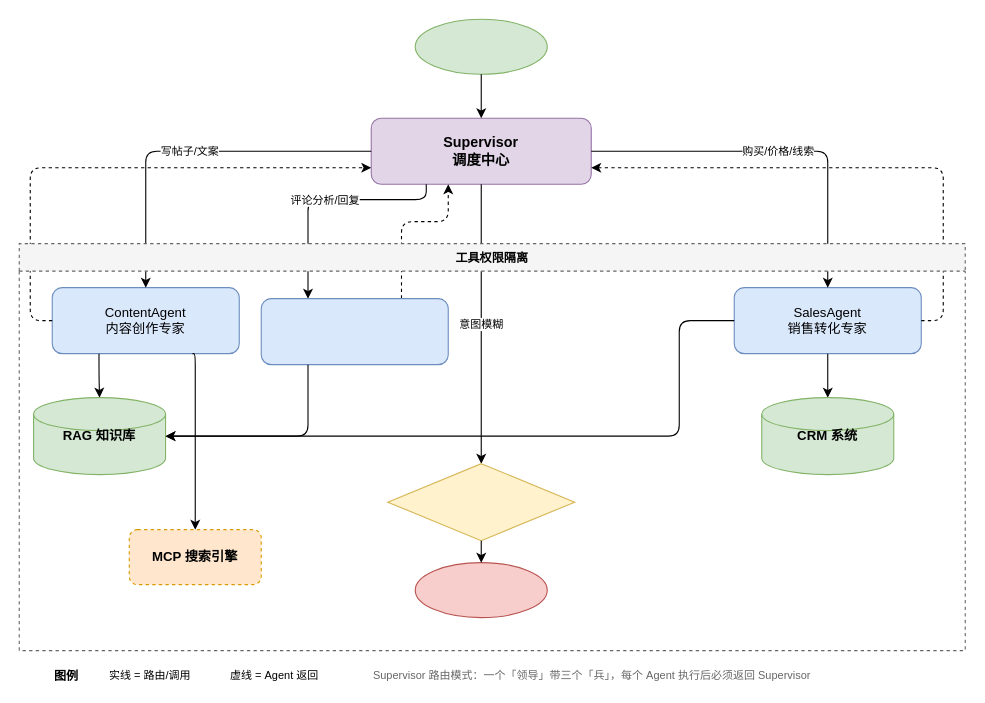
Some shapes in this 985 by 703 pixel diagram are drawn without their labels. The centre of each missing label's shape, as x and y in pixels:
Clarify 追问澄清: (481,502)
SocialAgent 社媒运营专家: (354,331)
用户输入: (480,46)
结束: (480,590)
